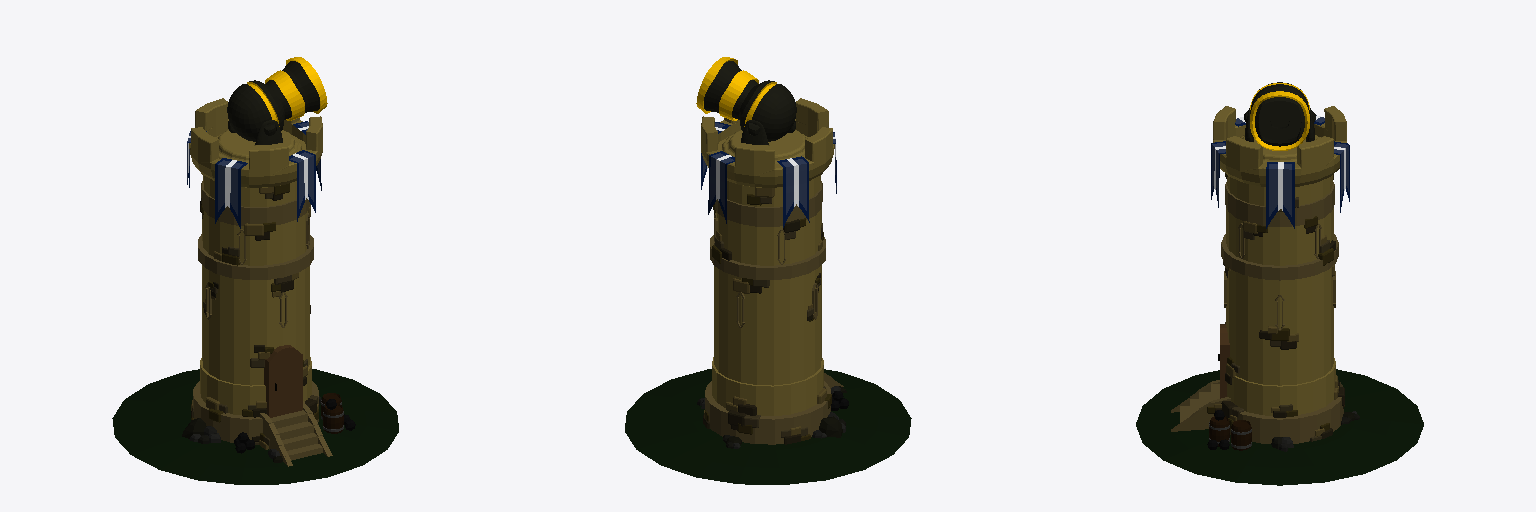
Rendered from CannonTower.obj.
3 views of the same model, side by side, from view 1: azimuth 30°, elevation 25°; view 2: azimuth 150°, elevation 25°; view 3: azimuth 270°, elevation 25° (orthographic).
Parts seen in each view (by area): view 1: Tower1, BasePlate, pCube15 Cannon2, Steps, DoorFrame Door, Flag3 Flags, Flags Flag4, Cannon2 pCylinder3, Barrel1; view 2: Tower1, BasePlate, pCube15 Cannon2, Flags Flag, Flags Flag2, Cannon2 pCylinder3; view 3: Tower1, BasePlate, pCube15 Cannon2, Flags Flag1, Steps, Flags Flag2, Barrel, DoorFrame Door, Flags Flag4.
Boxes of the visible parts, x1,y1,x2,y2 form: Tower1: [189, 98, 322, 442]; BasePlate: [112, 369, 398, 484]; pCube15 Cannon2: [227, 57, 327, 141]; Steps: [260, 401, 332, 466]; DoorFrame Door: [264, 345, 302, 417]; Flag3 Flags: [215, 158, 247, 228]; Flags Flag4: [289, 150, 315, 221]; Cannon2 pCylinder3: [217, 130, 301, 163]; Barrel1: [323, 404, 343, 433]; Tower1: [701, 98, 834, 444]; BasePlate: [625, 369, 911, 484]; pCube15 Cannon2: [696, 57, 796, 141]; Flags Flag: [777, 156, 809, 227]; Flags Flag2: [708, 151, 734, 223]; Cannon2 pCylinder3: [722, 130, 806, 163]; Tower1: [1213, 106, 1346, 443]; BasePlate: [1136, 369, 1423, 485]; pCube15 Cannon2: [1244, 82, 1315, 150]; Flags Flag1: [1266, 162, 1294, 228]; Steps: [1171, 380, 1230, 431]; Flags Flag2: [1334, 141, 1349, 212]; Barrel: [1231, 420, 1251, 450]; DoorFrame Door: [1220, 324, 1229, 398]; Flags Flag4: [1211, 141, 1225, 207].
Bounding box in the file's own units: 14.14 × 19.98 × 14.14.